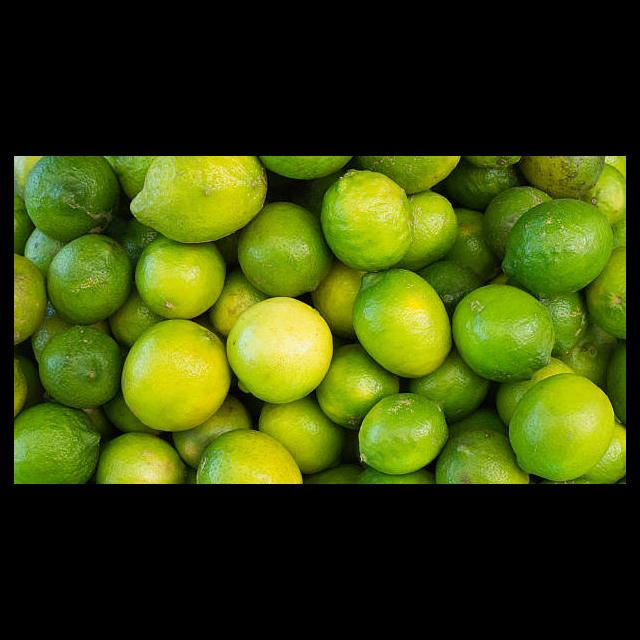lime: (120, 320, 233, 434), (225, 298, 336, 406), (501, 199, 616, 296), (354, 269, 454, 380), (358, 394, 450, 477)
